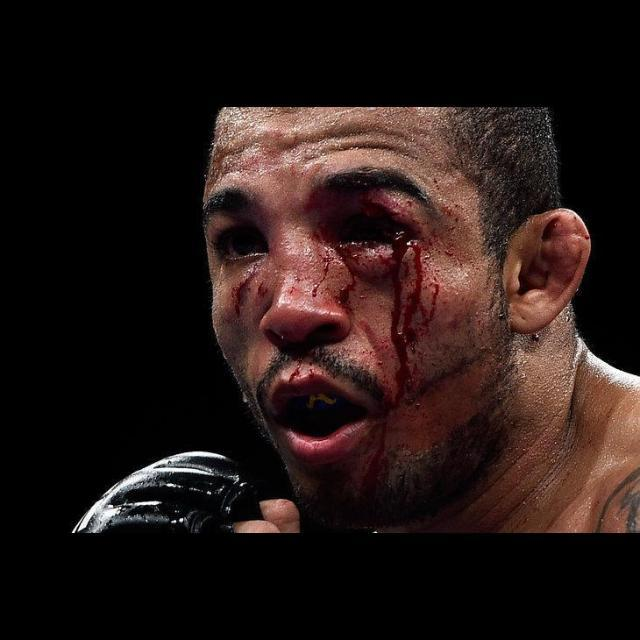blood: (231, 236, 442, 412)
